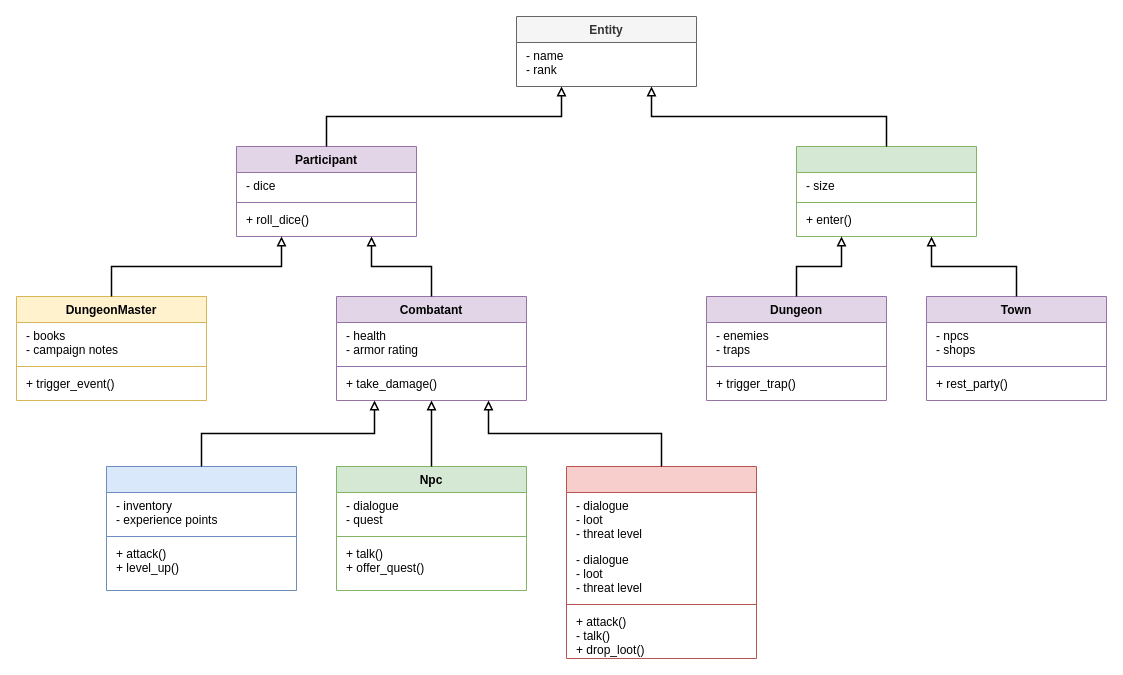
This 1123x675 diagram has some shape labels left out. The shapes that lost their labels are listed below. From the top down, each one's box as (x1, y1, x2, y2) in pixels, then its label:
(796, 146, 976, 236): Location
(106, 466, 296, 590): Player
(566, 466, 756, 658): Enemy
